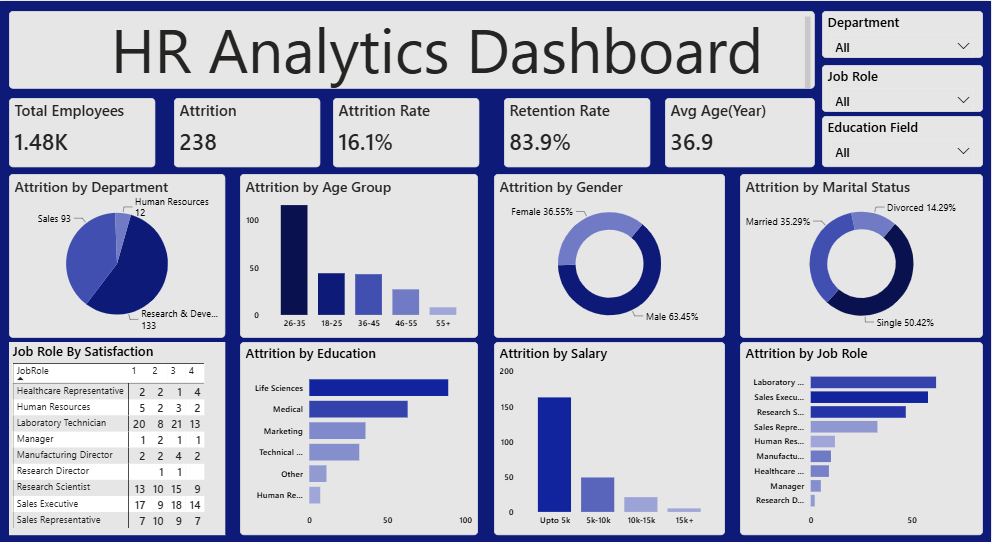

This screenshot's page, from the dashboard's own definition file:
{"tool":"powerbi","page":{"name":"Page 1","canvas":[1418,774],"ordinal":0},"visuals":[{"type":"textbox","box":[14.3,14.3,1151.4,111.4],"z":0},{"type":"cardVisual","title":"Total Employees","fields":{"Data":["Data.Total Employees"]},"box":[14.3,138.6,208.6,98.6],"z":1000},{"type":"cardVisual","title":"Attrition","fields":{"Data":["Data.Attrition Count"]},"box":[250,138.6,208.6,98.6],"z":2000},{"type":"cardVisual","title":"Attrition Rate","fields":{"Data":["Data.Attrition Rate"]},"box":[477.1,138.6,208.6,98.6],"z":3000},{"type":"cardVisual","title":"Retention Rate","fields":{"Data":["Data.Rentention Rate"]},"box":[721.4,138.6,208.6,98.6],"z":4000},{"type":"cardVisual","title":"Avg Age(Year)","fields":{"Data":["Data.Average Age"]},"box":[951.4,138.6,214.3,98.6],"z":5000},{"type":"pieChart","title":"Attrition by Department","fields":{"Category":["HR_Analytics.Department"],"Y":["Data.Attrition Count"]},"box":[14.3,247.1,308.6,234.3],"z":6000},{"type":"pivotTable","title":"Job Role By Satisfaction","fields":{"Rows":["HR_Analytics.JobRole"],"Columns":["HR_Analytics.JobSatisfaction"],"Values":["Data.Attrition Count"]},"box":[14.3,487.1,308.6,275.7],"z":7000},{"type":"donutChart","title":"Attrition by Gender","fields":{"Category":["HR_Analytics.Gender"],"Y":["Data.Attrition Count"]},"box":[706.7,247.1,330,234.3],"z":8000},{"type":"clusteredBarChart","title":"Attrition by Education","fields":{"Category":["HR_Analytics.EducationField"],"Y":["Data.Attrition Count"]},"box":[344.3,487.1,340,275.7],"z":9000},{"type":"donutChart","title":"Attrition by Marital Status","fields":{"Category":["HR_Analytics.MaritalStatus"],"Y":["Data.Attrition Count"]},"box":[1058.6,247.1,347.1,234.3],"z":10000},{"type":"lineStackedColumnComboChart","title":"Attrition by Age Group","fields":{"Category":["HR_Analytics.AgeGroup"],"Y":["Data.Attrition Count"]},"box":[344.8,247.1,340,234.3],"z":11000},{"type":"slicer","title":"Department","fields":{"Values":["HR_Analytics.Department"]},"box":[1175.7,14.3,230,67.1],"z":11001},{"type":"slicer","title":"Job Role","fields":{"Values":["HR_Analytics.JobRole"]},"box":[1175.7,91.4,230,67.1],"z":11002},{"type":"slicer","title":"Education Field","fields":{"Values":["HR_Analytics.EducationField"]},"box":[1175.7,164.3,230,72.9],"z":11003},{"type":"barChart","title":"Attrition by Job Role","fields":{"Category":["HR_Analytics.JobRole"],"Y":["Data.Attrition Count"]},"box":[1058.6,487.1,347.1,275.7],"z":11004},{"type":"columnChart","title":"Attrition by Salary","fields":{"Category":["HR_Analytics.SalarySlab"],"Y":["Data.Attrition Count"]},"box":[707.1,487.1,330,275.7],"z":11005}]}

Visuals, with their boxes in screenshot pixels (x1, y1, x2, y2), scaled from the page's 1418x774 canvas onto the 992x542 screenshot:
textbox: 10/10/815/88
"Total Employees" cardVisual: 10/97/156/166
"Attrition" cardVisual: 175/97/321/166
"Attrition Rate" cardVisual: 334/97/480/166
"Retention Rate" cardVisual: 505/97/651/166
"Avg Age(Year)" cardVisual: 666/97/815/166
"Attrition by Department" pieChart: 10/173/226/337
"Job Role By Satisfaction" pivotTable: 10/341/226/534
"Attrition by Gender" donutChart: 494/173/725/337
"Attrition by Education" clusteredBarChart: 241/341/479/534
"Attrition by Marital Status" donutChart: 741/173/983/337
"Attrition by Age Group" lineStackedColumnComboChart: 241/173/479/337
"Department" slicer: 822/10/983/57
"Job Role" slicer: 822/64/983/111
"Education Field" slicer: 822/115/983/166
"Attrition by Job Role" barChart: 741/341/983/534
"Attrition by Salary" columnChart: 495/341/726/534
